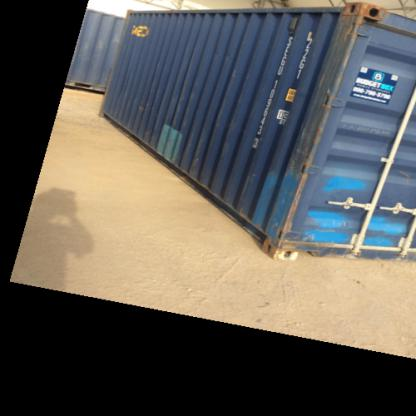Damage: (277, 160, 312, 245), (344, 3, 380, 50), (290, 232, 338, 260)
